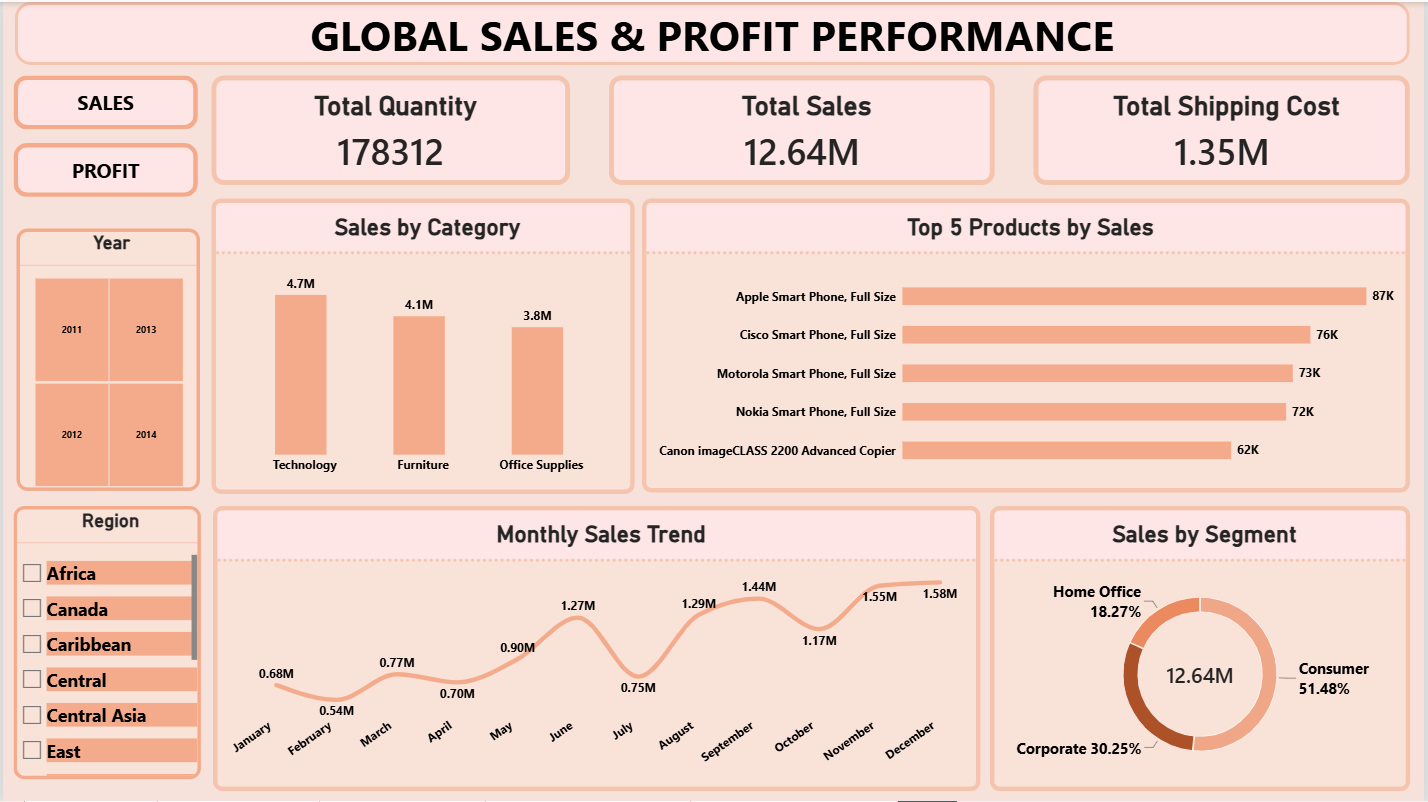

The dashboard page shown, as its layout file describes it:
{"tool":"powerbi","page":{"name":"Assign_4","canvas":[1920,1080],"ordinal":0},"visuals":[{"type":"shape","box":[16.5,0,1885.4,85.1],"z":0},{"type":"card","title":"Total Sales","fields":{"Values":["Sum(Fact_Orders.Sales)"]},"box":[819.1,99.4,521.1,148],"z":1000},{"type":"card","title":"Total Quantity","fields":{"Values":["Sum(Fact_Orders.Quantity)"]},"box":[281.8,99.4,484.6,148],"z":3000},{"type":"card","title":"Total Shipping Cost","fields":{"Values":["Sum(Fact_Orders.Shipping Cost)"]},"box":[1392.9,99.4,508.9,148],"z":4000},{"type":"columnChart","title":"Sales by Category","fields":{"Category":["Fact_Orders.Category"],"Y":["Sum(Fact_Orders.Sales)"]},"box":[281.2,264.6,571.8,399.3],"z":5000},{"type":"lineChart","title":"Monthly Sales Trend","fields":{"Category":["Fact_Orders.Order Date.Variation.Date Hierarchy.Month"],"Y":["Sum(Fact_Orders.Sales)"]},"box":[283.9,681.3,1037.2,385.1],"z":6000},{"type":"clusteredBarChart","title":"Top 5 Products by Sales","fields":{"Category":["Fact_Orders.Product Name"],"Y":["Sum(Fact_Orders.Sales)"]},"box":[863.7,265.6,1038.1,397.4],"z":7000},{"type":"donutChart","title":"Sales by Segment","fields":{"Category":["Fact_Orders.Segment"],"Y":["Sum(Fact_Orders.Sales)"]},"box":[1334.1,681.3,567.7,385.2],"z":8000},{"type":"slicer","title":"Year","fields":{"Values":["Fact_Orders.Order Date.Variation.Date Hierarchy.Year"]},"box":[18.2,306.8,248.1,354.4],"z":9000},{"type":"slicer","title":"Region","fields":{"Values":["Fact_Orders.Region"]},"box":[14.2,681.3,253.4,369],"z":10000},{"type":"actionButton","box":[15.2,100.3,249.1,72.9],"z":15000},{"type":"actionButton","box":[15.2,191.4,249.1,72.9],"z":16000}]}

Visuals, with their boxes in screenshot pixels (x1, y1, x2, y2), scaled from the page's 1920x1080 canvas onto the 1428x802 screenshot:
shape: crop(12, 0, 1415, 63)
"Total Sales" card: crop(609, 74, 997, 184)
"Total Quantity" card: crop(210, 74, 570, 184)
"Total Shipping Cost" card: crop(1036, 74, 1414, 184)
"Sales by Category" columnChart: crop(209, 196, 634, 493)
"Monthly Sales Trend" lineChart: crop(211, 506, 983, 792)
"Top 5 Products by Sales" clusteredBarChart: crop(642, 197, 1414, 492)
"Sales by Segment" donutChart: crop(992, 506, 1414, 792)
"Year" slicer: crop(14, 228, 198, 491)
"Region" slicer: crop(11, 506, 199, 780)
actionButton: crop(11, 74, 197, 129)
actionButton: crop(11, 142, 197, 196)
